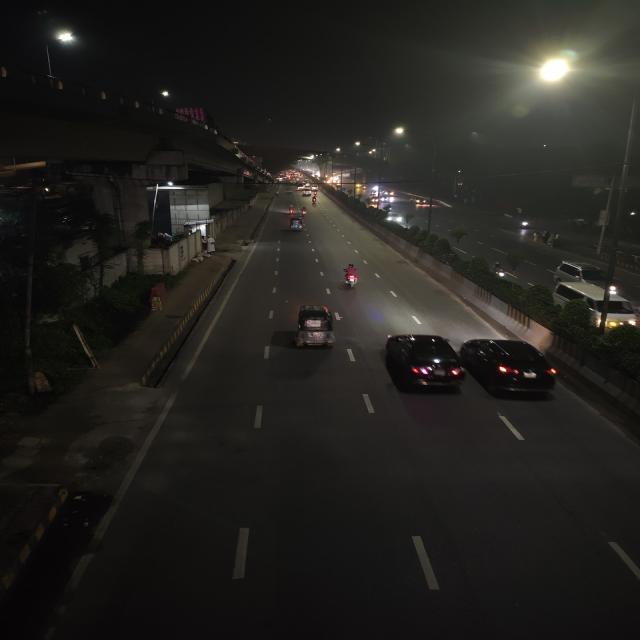car: (458, 332, 568, 404), (376, 329, 470, 397), (552, 284, 640, 333), (546, 258, 623, 294), (409, 196, 428, 206), (303, 188, 311, 195)
cng: (289, 303, 343, 351), (287, 216, 305, 232), (285, 187, 295, 195)
motorcycle: (337, 262, 364, 291), (489, 260, 513, 284), (310, 195, 320, 207), (298, 206, 308, 218)
